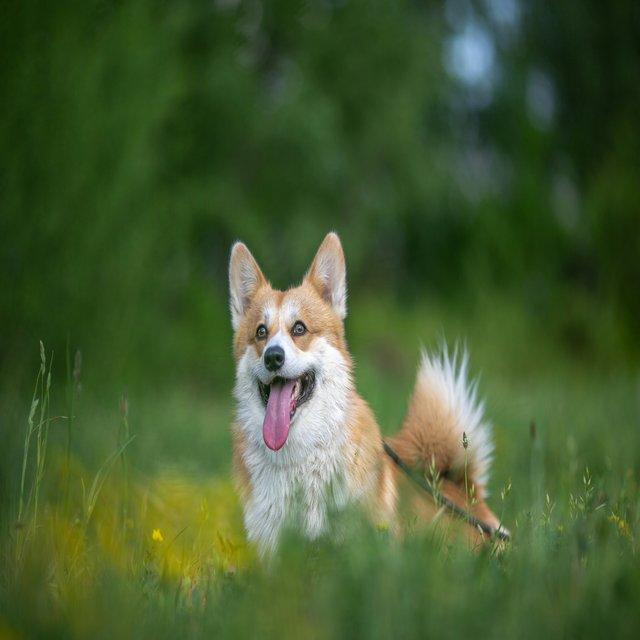corgi: (226, 230, 511, 566)
